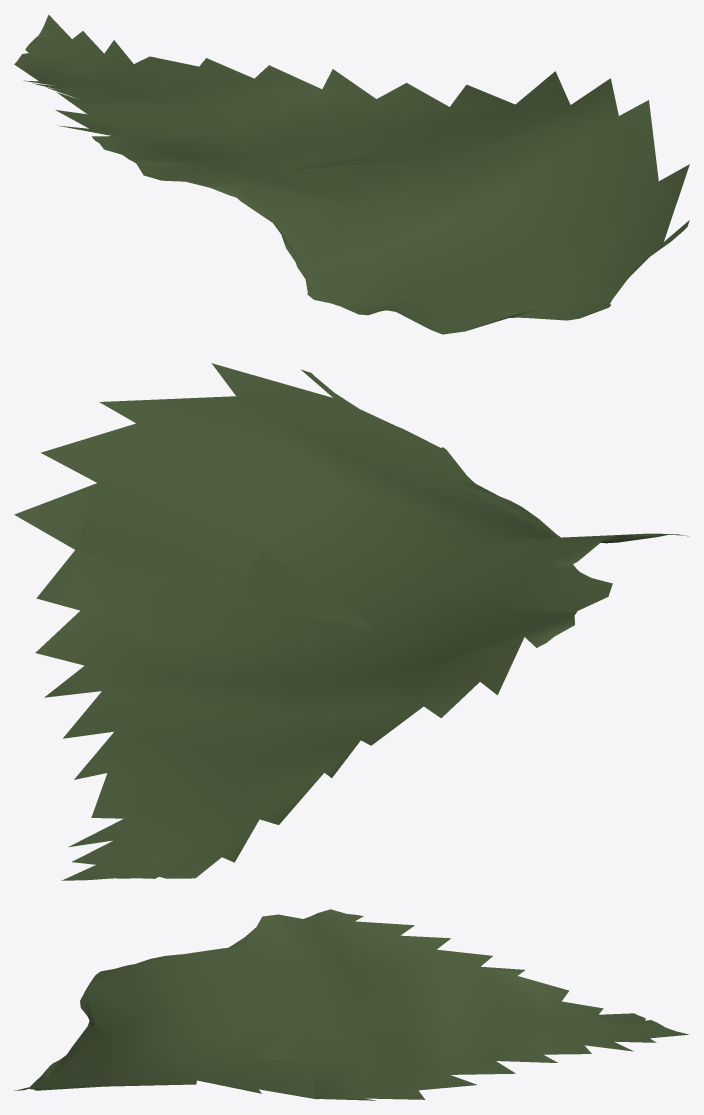
File: trees-leaves-elm-leaf_v10.glb
3 views of the same model, one above another, from view 1: azimuth 30°, elevation 25°; view 2: azimuth 150°, elevation 25°; view 3: azimuth 270°, elevation 25° (orthographic). The views are drawn at different scales.
Parts seen in each view (by area): view 1: Elm Leaf_v10; view 2: Elm Leaf_v10; view 3: Elm Leaf_v10.
Boxes of the visible parts, left/top/right/bottom form: Elm Leaf_v10: left=14, top=14, right=689, bottom=334; Elm Leaf_v10: left=14, top=363, right=689, bottom=880; Elm Leaf_v10: left=14, top=909, right=688, bottom=1100.
Bounding box in the file's own units: 0.062 × 0.0132 × 0.1.
